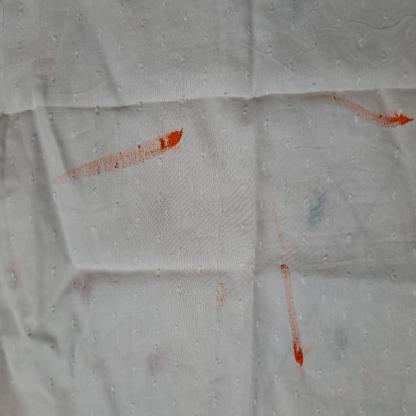spot: (53, 118, 191, 189), (268, 193, 313, 373), (331, 86, 416, 137), (140, 335, 170, 376), (330, 322, 353, 364), (306, 182, 328, 224), (76, 274, 96, 310), (215, 273, 231, 309)
